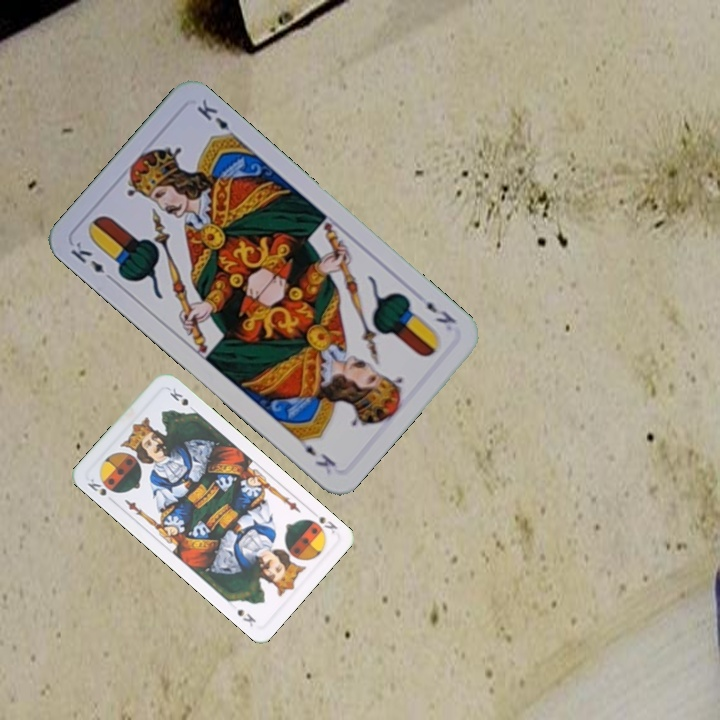EK: (66, 237, 118, 285), (422, 297, 459, 327)
SK: (307, 507, 340, 536), (83, 474, 109, 498)
